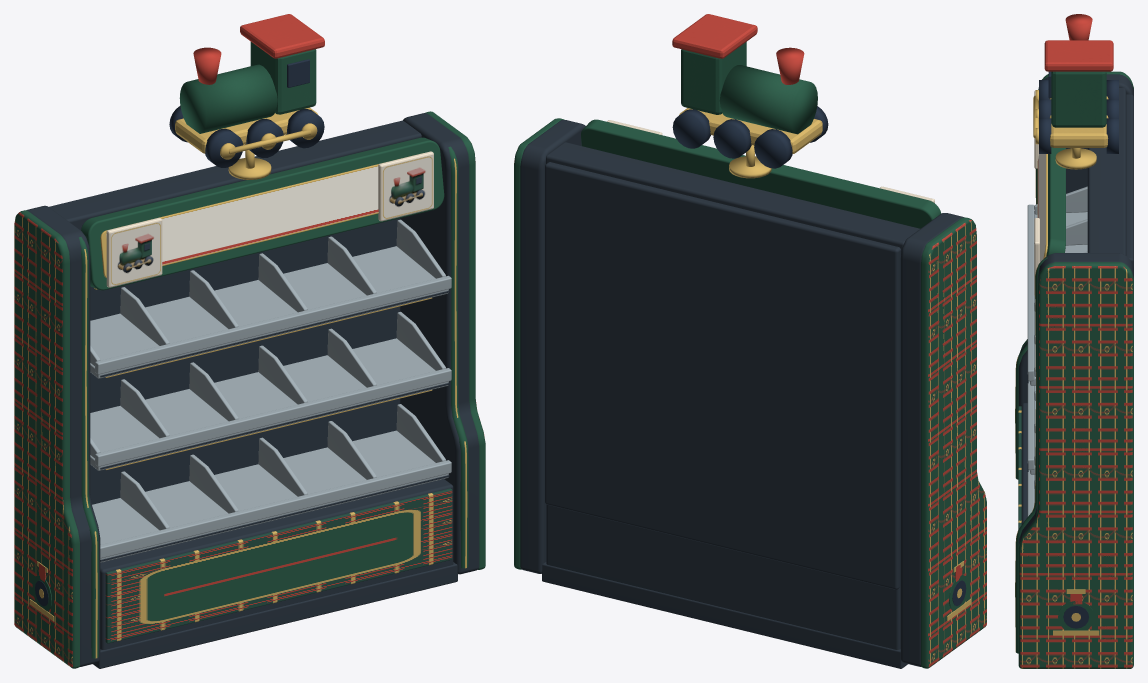
The model's file is TH_RAILWAY.fbx.
3 views of the same model, side by side, from view 1: azimuth 30°, elevation 25°; view 2: azimuth 150°, elevation 25°; view 3: azimuth 270°, elevation 25° (orthographic). The views are drawn at different scales.
Parts seen in each view (by area): view 1: BaseFrontInset, Left_PaintedPanel, BackPanel.001, Right_StructuralWall, Tray_02, Tray_01, Tray_03, HeaderFace, HeaderBorder, Left_StructuralWall, TopCrossRail, ClosedSolidBase (+40 smaller); view 2: BackPanel.001, Left_PaintedPanel, ClosedSolidBase, Right_StructuralWall, HeaderBorder, Left_StructuralWall, TopCrossRail, LowerPlinth, Boiler, Right_PaintedPanel, Driver cabin, Cabin roof (+5 smaller); view 3: Right_PaintedPanel, TopCrossRail, Driver cabin, Cabin roof, HeaderBorder, FrontLip_01, BackPanel.001, Left_StructuralWall, Locomotive chassis, RightHousing, HeaderFace, Right_StructuralWall (+21 smaller).
Part boxes in pixels (box(x1,y1,x2,y2)): BaseFrontInset: box(105, 488, 452, 643); Left_PaintedPanel: box(14, 210, 80, 668); BackPanel.001: box(90, 218, 400, 504); Right_StructuralWall: box(400, 113, 479, 574); Tray_02: box(90, 338, 448, 470); Tray_01: box(90, 246, 448, 378); Tray_03: box(92, 430, 448, 562); HeaderFace: box(100, 153, 423, 277); HeaderBorder: box(81, 137, 444, 290); Left_StructuralWall: box(26, 205, 100, 666); TopCrossRail: box(49, 120, 421, 230); ClosedSolidBase: box(100, 479, 453, 649); BackPanel.001: box(545, 162, 900, 589); Left_PaintedPanel: box(921, 217, 986, 668); ClosedSolidBase: box(546, 504, 900, 649); Right_StructuralWall: box(520, 120, 585, 573); HeaderBorder: box(581, 119, 941, 228); Left_StructuralWall: box(900, 213, 964, 666); TopCrossRail: box(546, 142, 920, 254); LowerPlinth: box(542, 562, 907, 668); Boiler: box(719, 65, 817, 134); Right_PaintedPanel: box(514, 118, 564, 569); Driver cabin: box(681, 42, 746, 114); Cabin roof: box(672, 14, 757, 58); Right_PaintedPanel: box(1018, 262, 1133, 668); TopCrossRail: box(1087, 88, 1126, 255); Driver cabin: box(1051, 71, 1106, 127); Cabin roof: box(1044, 40, 1113, 71); HeaderBorder: box(1046, 147, 1065, 256); FrontLip_01: box(1027, 204, 1034, 381); BackPanel.001: box(1126, 94, 1133, 268); Left_StructuralWall: box(1018, 74, 1133, 406); Locomotive chassis: box(1049, 96, 1108, 147); RightHousing: box(1015, 257, 1047, 653); HeaderFace: box(1037, 154, 1047, 262); Right_StructuralWall: box(1018, 253, 1133, 545).
Bounding box in the file's own units: 3.62 × 4.68 × 0.9273.
